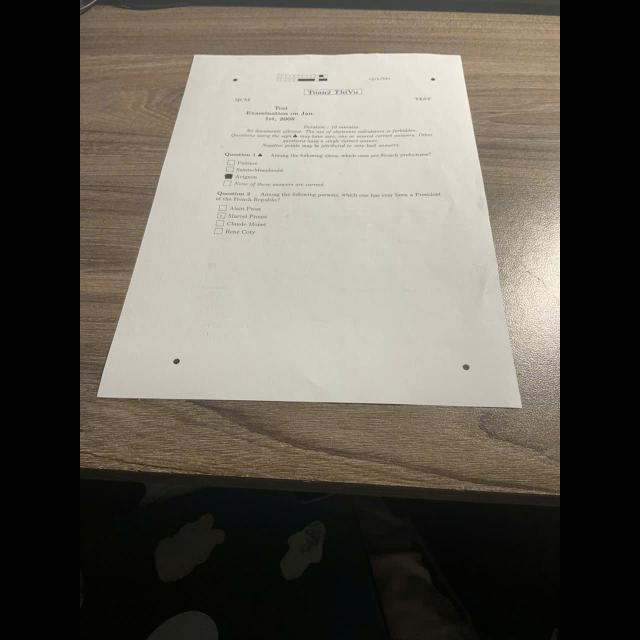Markers: (462, 364, 470, 371), (172, 358, 180, 364), (233, 78, 237, 82), (430, 77, 434, 81)
